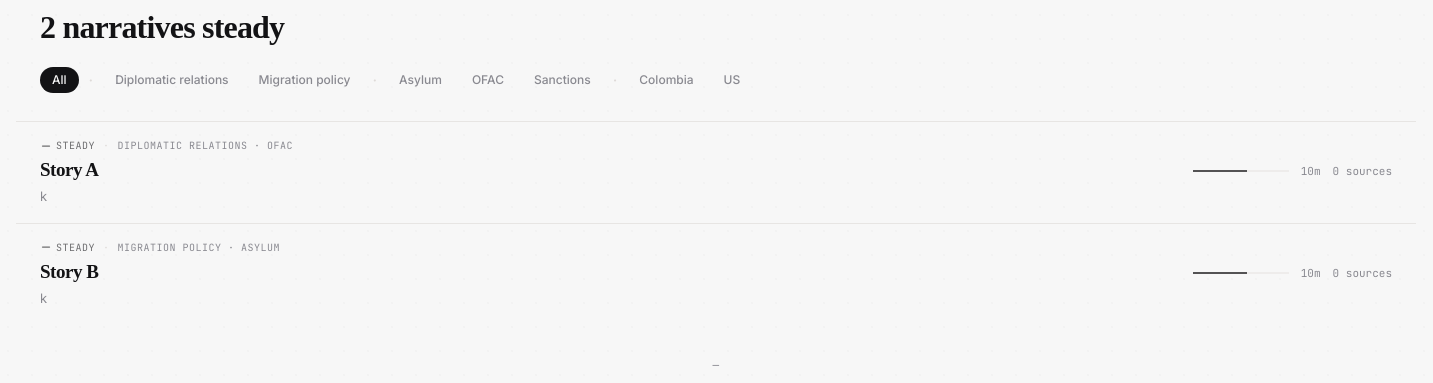
Phase 7: keyword pill display formatting › clicking a formatted pill filters by the canonical raw value (not the display label)
Expected: the heading "Story A" is shown, [40,159,98,180]
Click the button with test id "pill-keyword-sanctions". click: [562, 80]
box: [522,67,603,93]
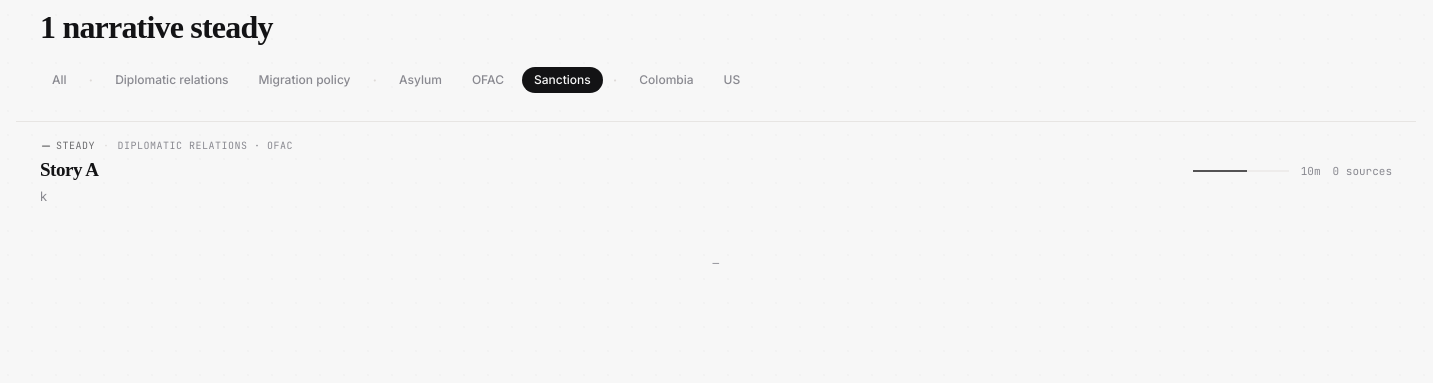
Expected: the heading "Story A" is shown, [40,159,98,180]
Expected: the button "Story B" is gone
